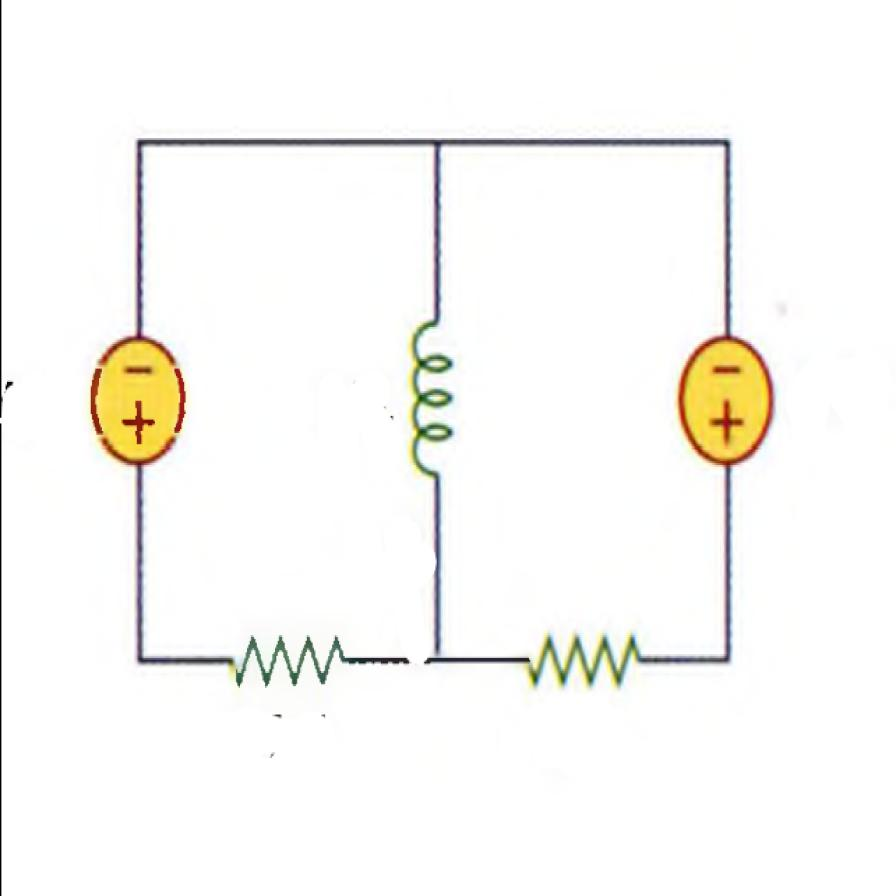V3: (671, 333, 781, 478), (85, 326, 185, 466)
